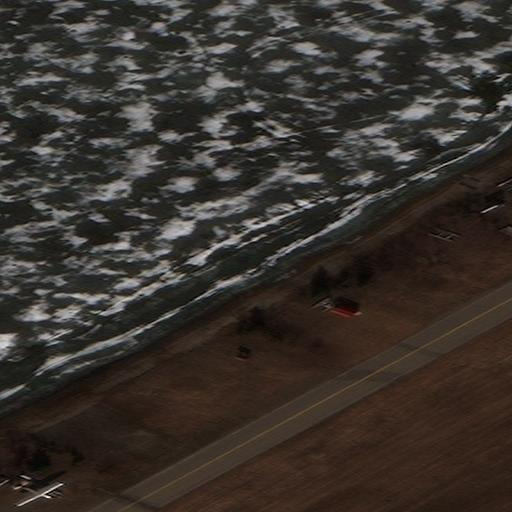Small Civil Transport: (15, 483, 65, 507)
